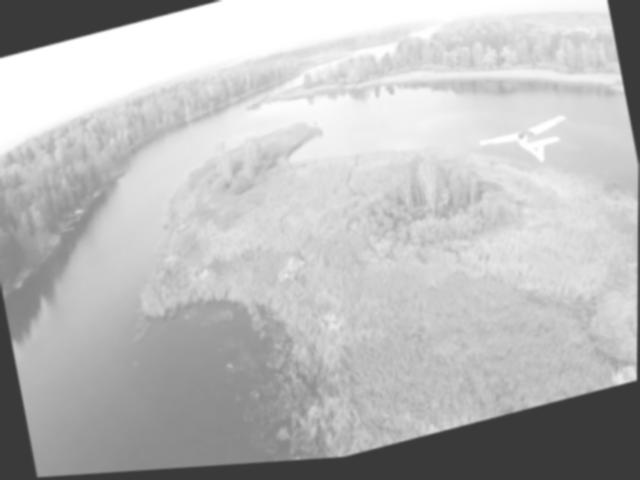hedef: (475, 113, 579, 185)
